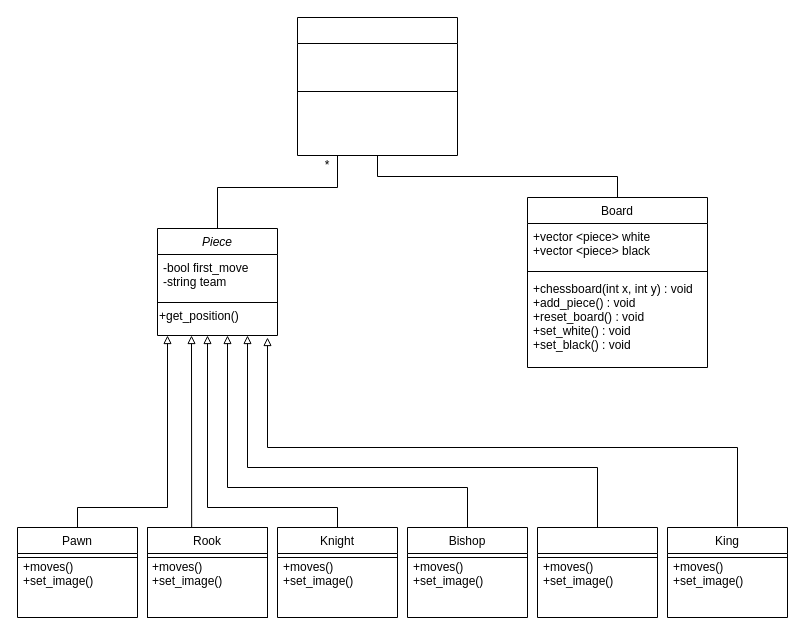
Image size: 805x635. Some labels were removed from this diagram. The shapes that lost their labels are listed below. From the top down, each one's centre as x and y in pixels, then its label:
At point (377, 86): "Game".
At point (597, 572): "Queen".
